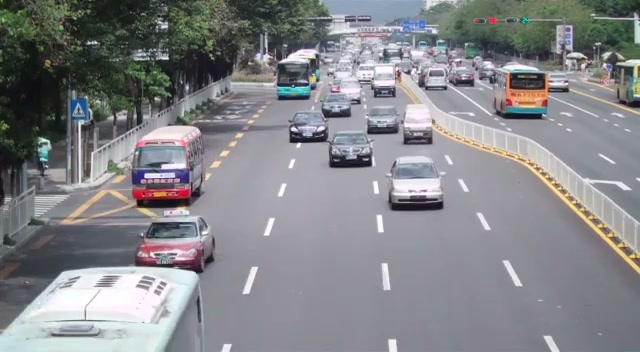bus: (130, 125, 205, 206), (491, 62, 549, 118), (276, 59, 311, 100), (614, 59, 640, 105), (289, 49, 320, 84)
car: (0, 265, 206, 352), (133, 214, 216, 273), (385, 155, 445, 210), (327, 131, 374, 168), (288, 111, 328, 143), (402, 104, 433, 144), (366, 106, 400, 134), (321, 93, 352, 118), (423, 66, 449, 91), (451, 66, 475, 85), (548, 75, 569, 92)
truck: (614, 59, 640, 106), (371, 64, 396, 97)
